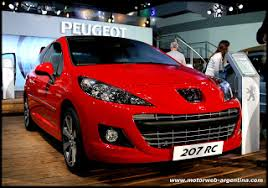car: (24, 36, 242, 174)
